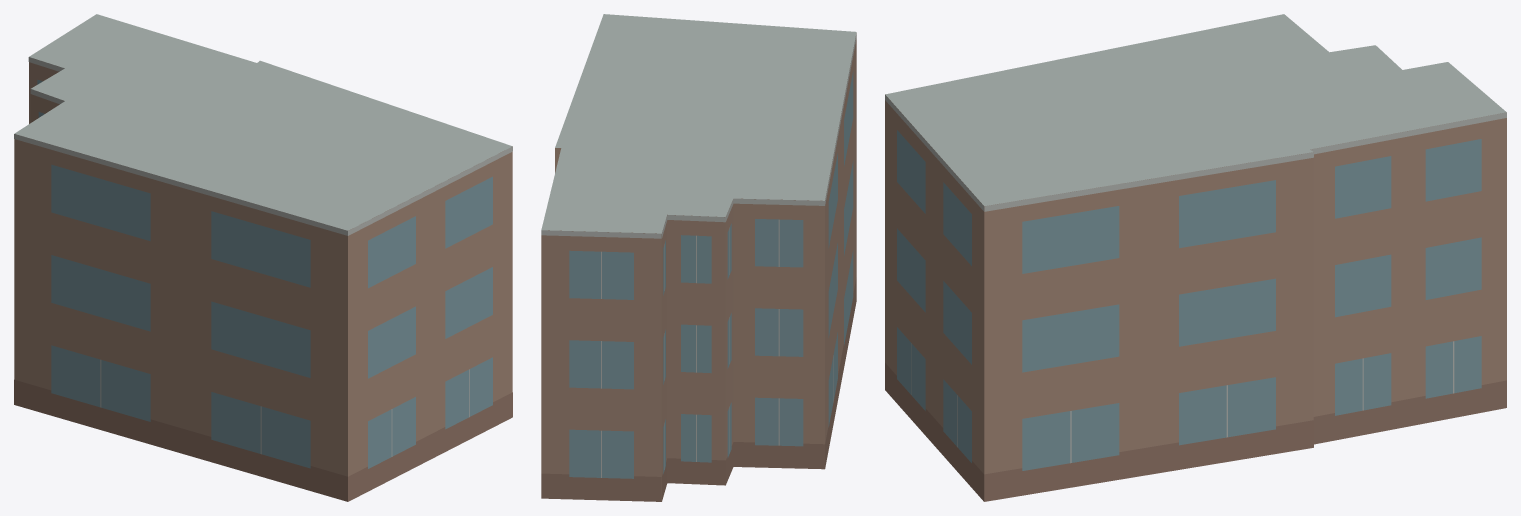
The model's file is survey-upis-32940135.glb.
The picture shows the model from 3 angles, left to right: view 1: azimuth 30°, elevation 25°; view 2: azimuth 150°, elevation 25°; view 3: azimuth 270°, elevation 25°; orthographic projection. The views are drawn at different scales.
Visible parts, largest first — view 1: survey-upis-32940135.tmp; view 2: survey-upis-32940135.tmp; view 3: survey-upis-32940135.tmp.
Part boxes in pixels (bbox=[...]): survey-upis-32940135.tmp: bbox=[14, 14, 512, 501]; survey-upis-32940135.tmp: bbox=[541, 14, 856, 501]; survey-upis-32940135.tmp: bbox=[885, 14, 1506, 501].
Bounding box in the file's own units: 17.86 × 12.8 × 24.4.
